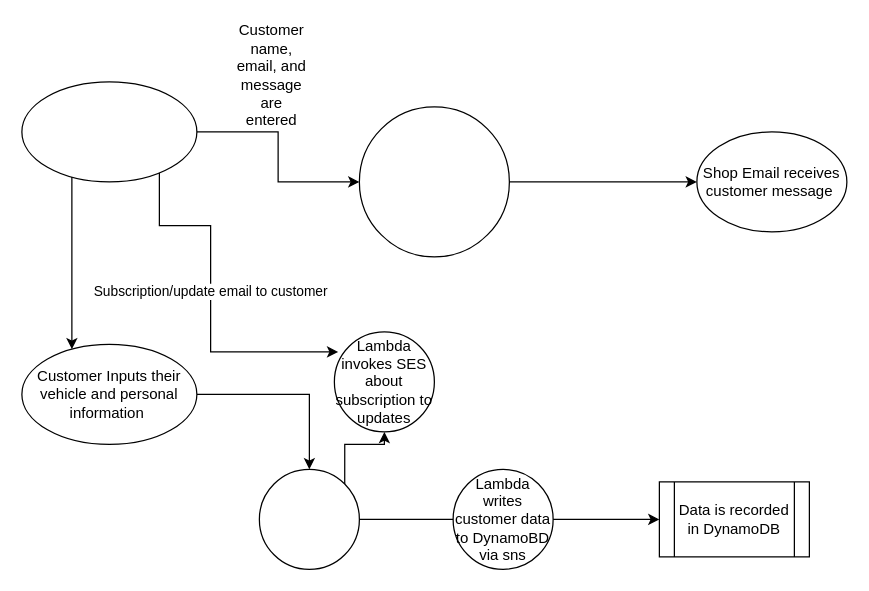
Image size: 869x591. Some labels were removed from this diagram. The box of each missing label's shape, as (x1, y1, x2, y2) in pixels:
Customer: (21, 81, 197, 182)
Customers input is sent through an api and invokes a lambda: (358, 106, 509, 257)
Data invokes lambda functions: (258, 468, 359, 569)
